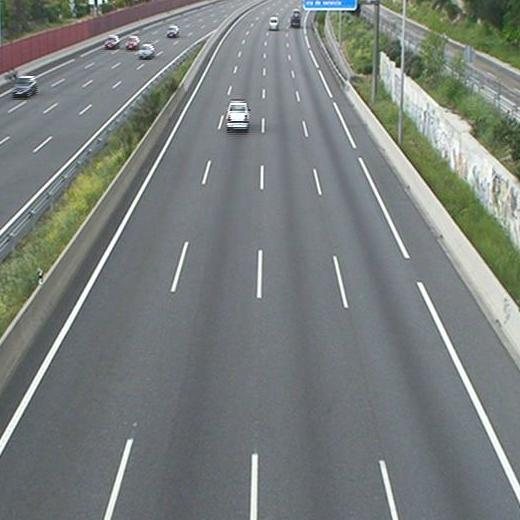car: (225, 100, 250, 132)
